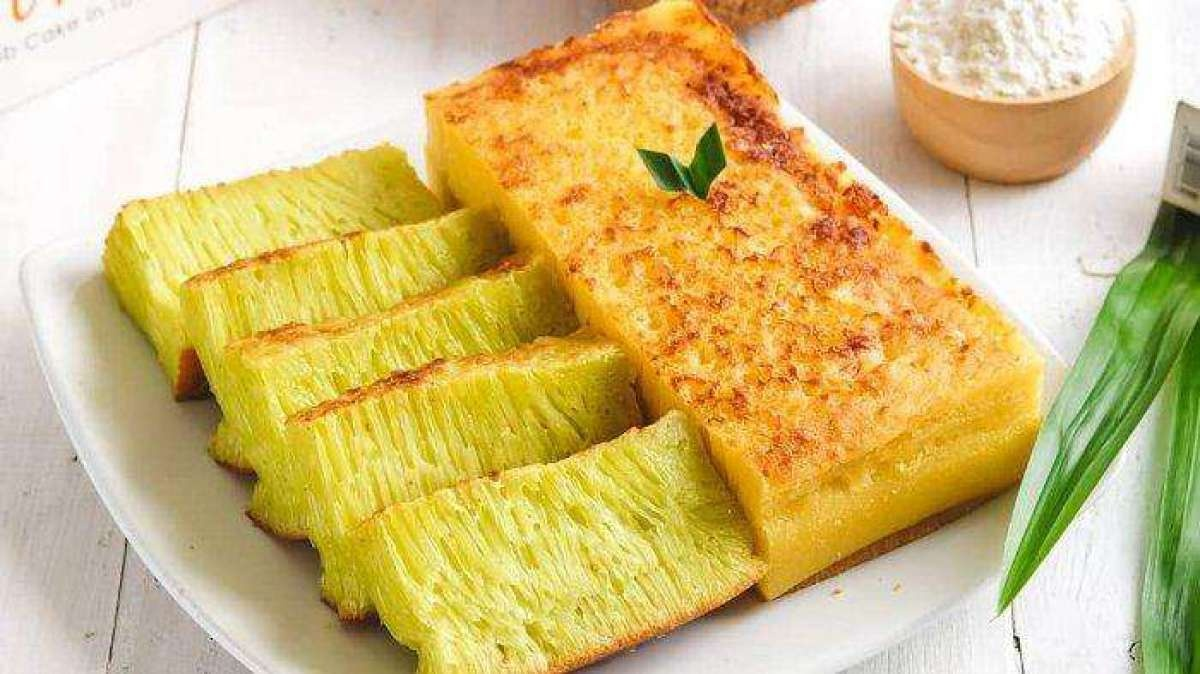bika_ambon: (93, 140, 731, 646), (230, 335, 673, 597), (336, 419, 759, 656), (184, 258, 568, 504)
